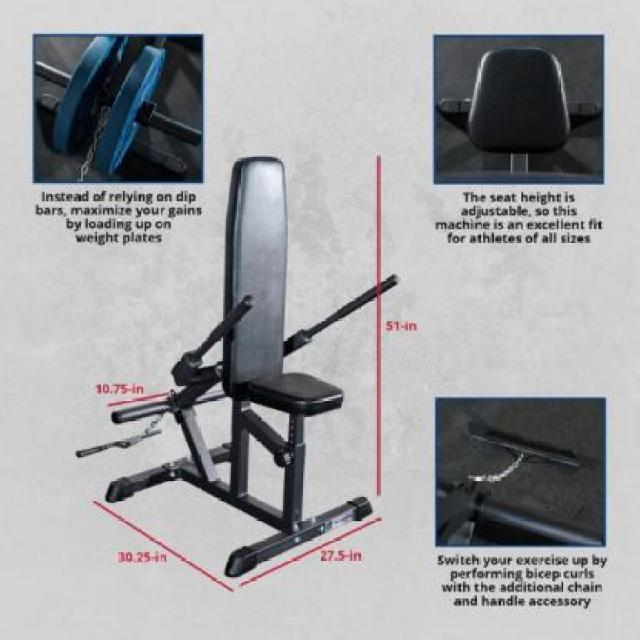seated dip machine: (103, 223, 402, 583)
